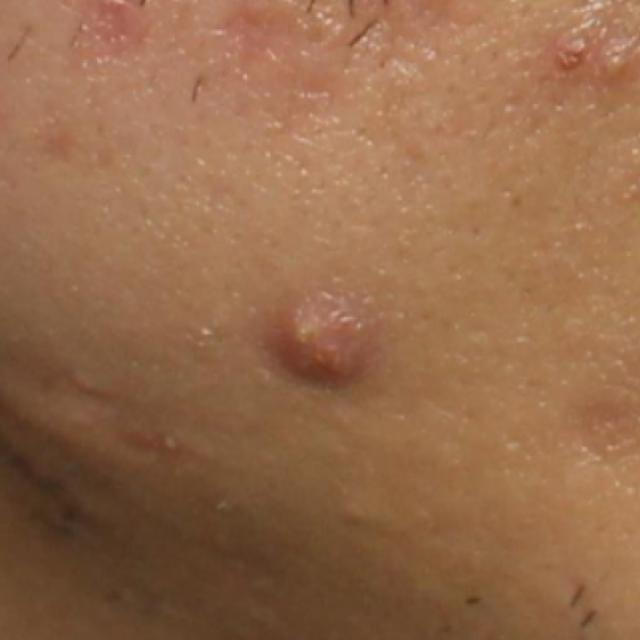nodule: (274, 292, 371, 390)
